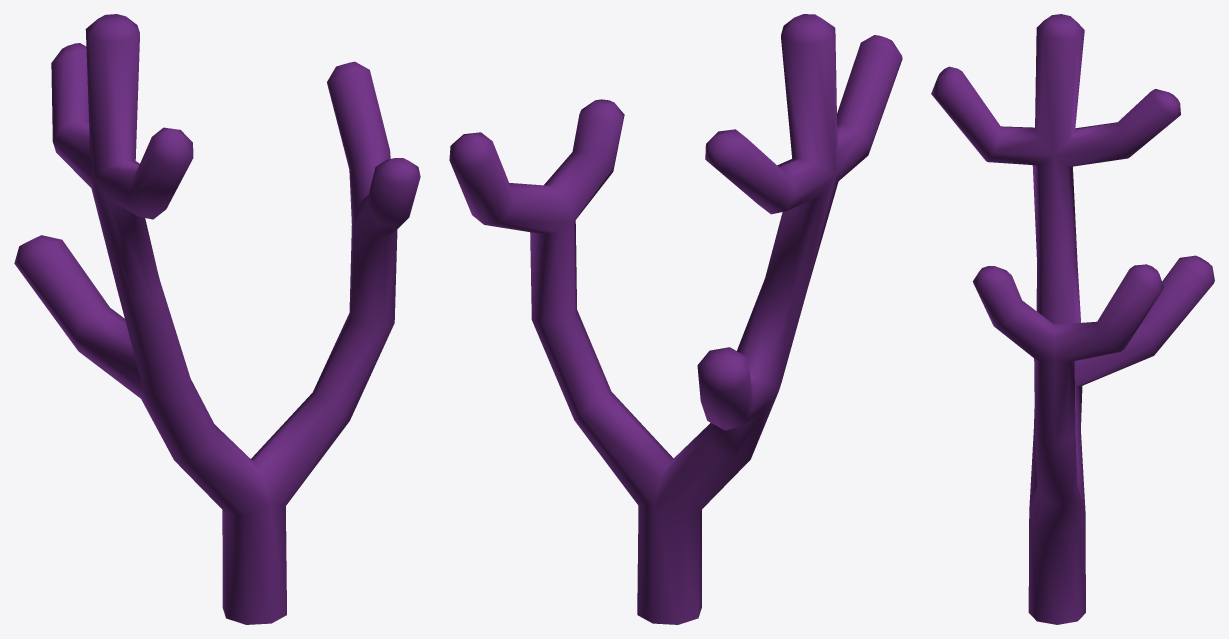
Rendered from Sea_plant_1_5.001.fbx.
The picture shows the model from 3 angles, left to right: view 1: azimuth 30°, elevation 25°; view 2: azimuth 150°, elevation 25°; view 3: azimuth 270°, elevation 25°; orthographic projection. The views are drawn at different scales.
Parts seen in each view (by area): view 1: Sea_plant_1_5.001; view 2: Sea_plant_1_5.001; view 3: Sea_plant_1_5.001.
Part boxes in pixels (x1,y1,x2,y2): Sea_plant_1_5.001: (14, 14, 420, 624); Sea_plant_1_5.001: (449, 14, 902, 624); Sea_plant_1_5.001: (931, 14, 1214, 624).
Size of the model in its own units: 0.7313 by 1.31 by 0.6294.
